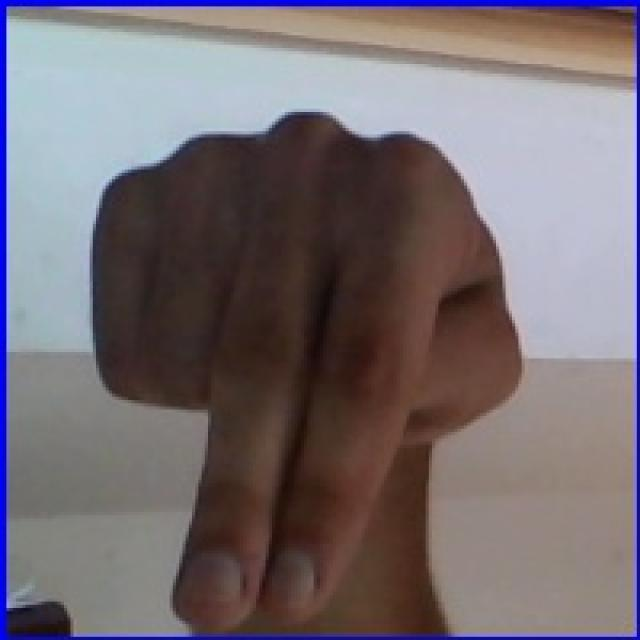Letra-N: (74, 61, 547, 640)
